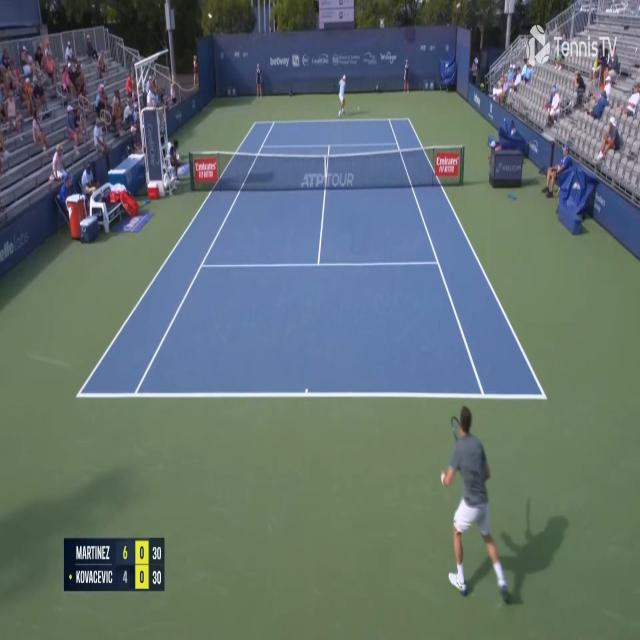tennis-player: (439, 401, 514, 600), (337, 70, 348, 116)
